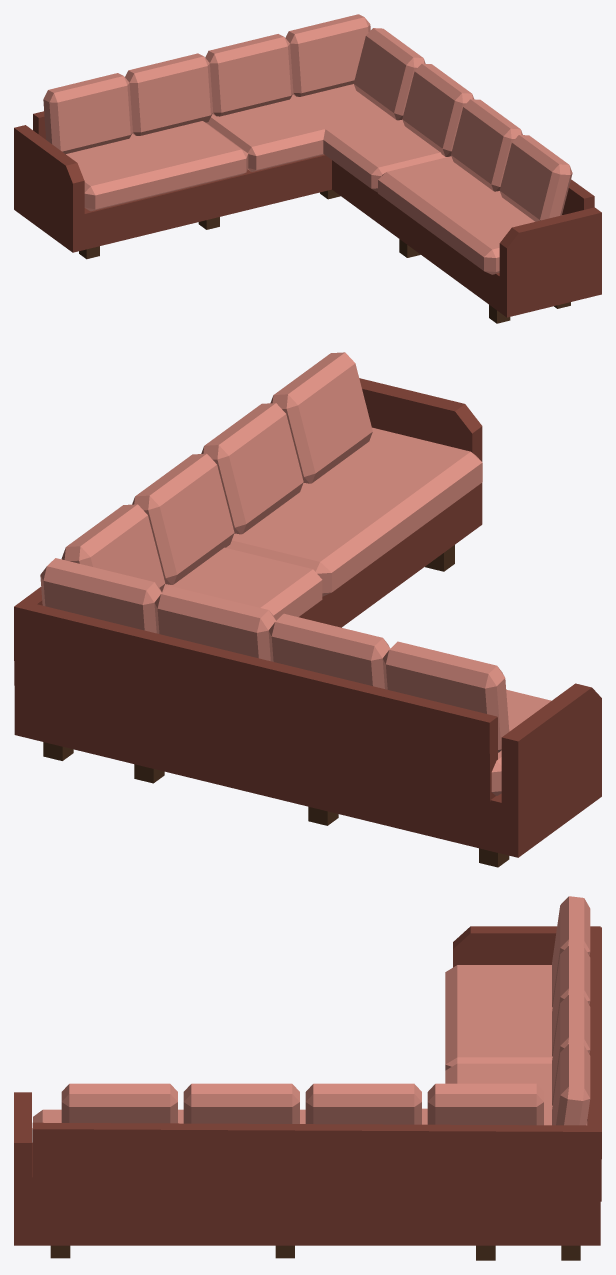
Rendered from L-Shaped Couch.fbx.
3 renders of one model, top to bottom at view 1: azimuth 30°, elevation 25°; view 2: azimuth 150°, elevation 25°; view 3: azimuth 270°, elevation 25°, orthographic. The views are drawn at different scales.
Parts seen in each view (by area): view 1: L-Shaped Couch; view 2: L-Shaped Couch; view 3: L-Shaped Couch.
Part boxes in pixels (x1,y1,x2,y2): L-Shaped Couch: (14,14,601,323); L-Shaped Couch: (14,352,601,867); L-Shaped Couch: (14,896,601,1260).
Size of the model in its own units: 3.43 by 1.27 by 3.93.
